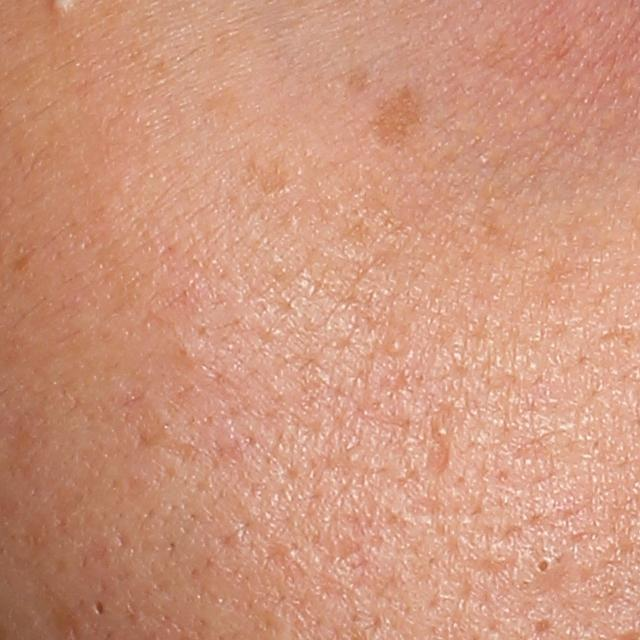atrophic_scar: (424, 435, 456, 485)
comedo: (525, 548, 558, 583), (380, 335, 407, 362)
melasma: (363, 85, 431, 153)
